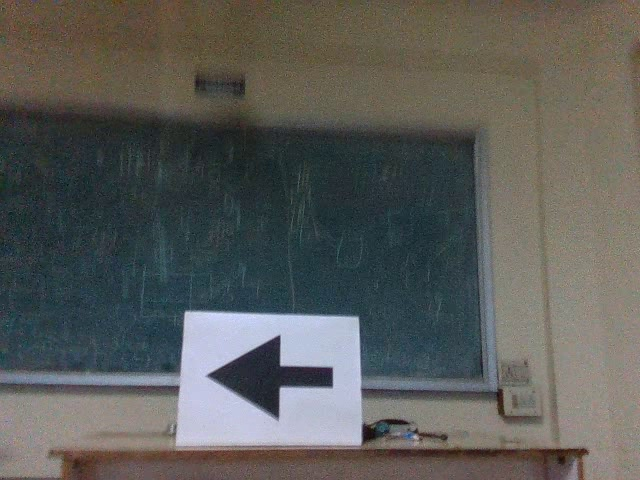Left: (198, 329, 339, 424)
